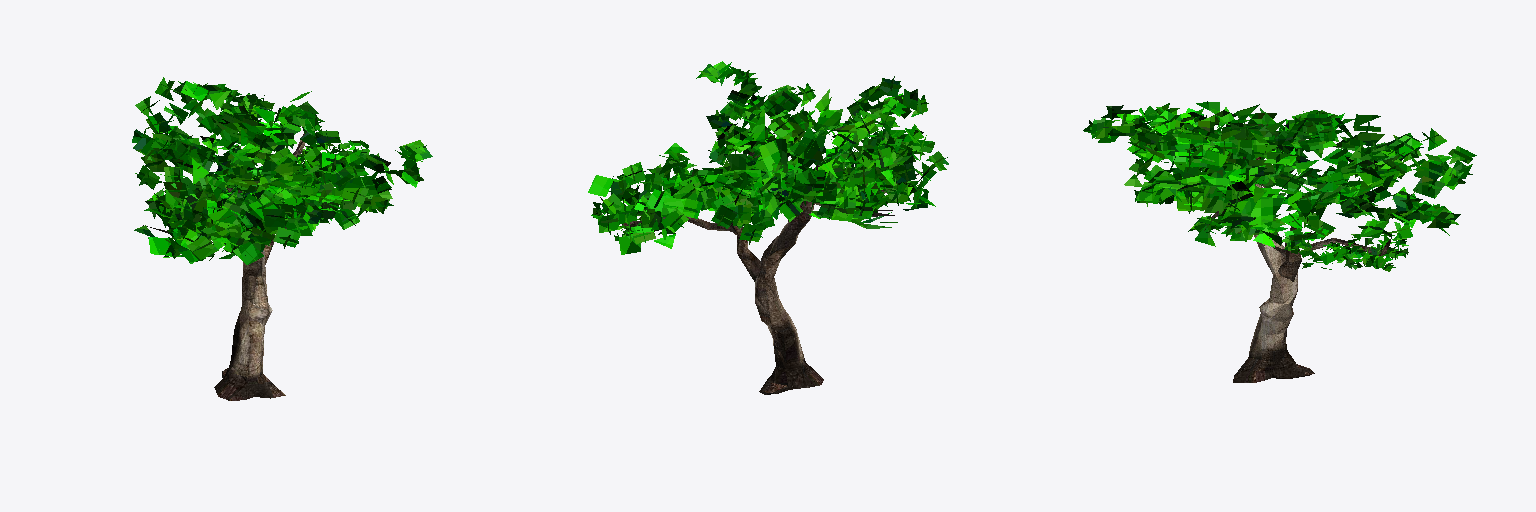
3 renders of one model, left to right at view 1: azimuth 30°, elevation 25°; view 2: azimuth 150°, elevation 25°; view 3: azimuth 270°, elevation 25°, orthographic.
Size of the model in its own units: 19.36 by 16.61 by 24.08.
1 materials, 1 textured.